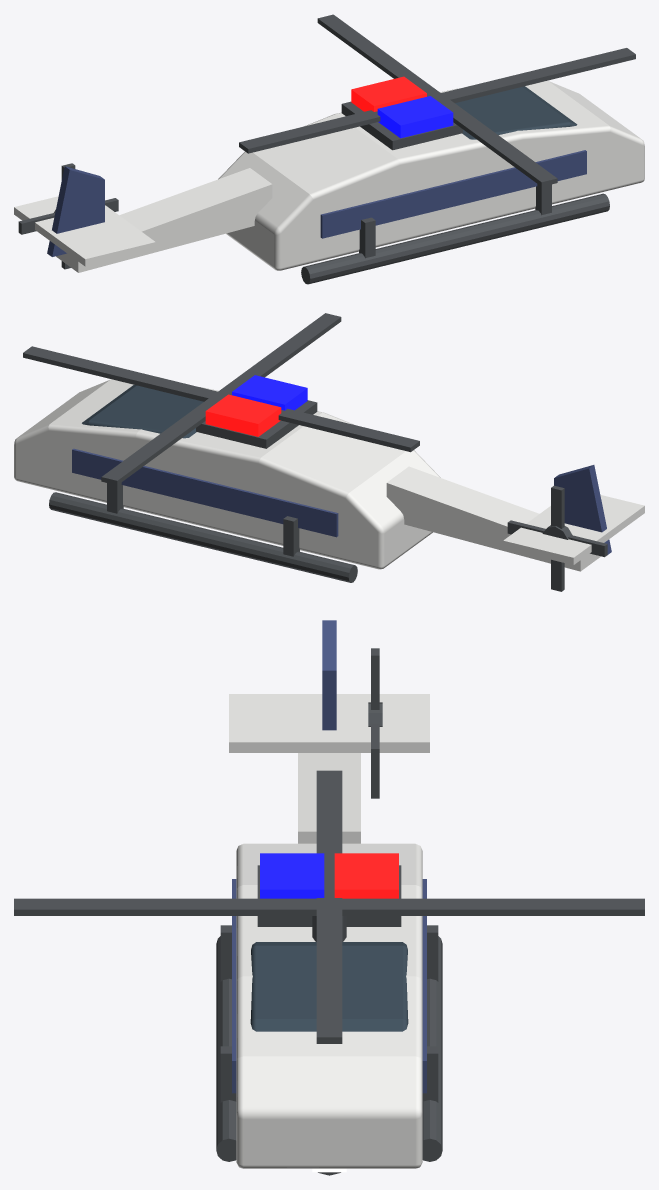
Rendered from heli2.glb.
The picture shows the model from 3 angles, top to bottom: view 1: azimuth 30°, elevation 25°; view 2: azimuth 150°, elevation 25°; view 3: azimuth 270°, elevation 25°; orthographic projection. The views are drawn at different scales.
Visible parts, largest first — view 1: Body, Rotor, TailBoom, Skids, Stripe, Stabilizer, Canopy, TailFin, LightBlue, LightRed, LightBarBase, TailRotor; view 2: Body, Rotor, TailBoom, Skids, Stripe, Stabilizer, Canopy, TailFin, LightRed, TailRotor, LightBlue, LightBarBase; view 3: Body, Rotor, Canopy, Stabilizer, Skids, TailBoom, LightBlue, LightRed, Stripe, TailFin, TailRotor, LightBarBase.
Boxes of the visible parts, x1,y1,x2,y2 form: Body: [218, 81, 644, 270]; Rotor: [239, 14, 635, 186]; TailBoom: [56, 168, 272, 272]; Skids: [301, 184, 609, 284]; Stripe: [320, 150, 586, 238]; Stabilizer: [14, 196, 155, 266]; Canopy: [455, 86, 577, 139]; TailFin: [47, 166, 104, 256]; LightBlue: [377, 96, 453, 138]; LightRed: [351, 76, 426, 111]; LightBarBase: [341, 101, 462, 150]; TailRotor: [18, 163, 118, 269]; Body: [14, 379, 440, 569]; Rotor: [23, 313, 419, 485]; TailBoom: [386, 466, 600, 571]; Skids: [49, 482, 357, 582]; Stripe: [72, 448, 338, 537]; Stabilizer: [503, 495, 644, 564]; Canopy: [82, 385, 203, 438]; TailFin: [554, 465, 611, 554]; LightRed: [205, 394, 281, 436]; TailRotor: [507, 485, 607, 591]; LightBlue: [232, 375, 307, 410]; LightBarBase: [196, 400, 317, 448]; Body: [236, 843, 422, 1168]; Rotor: [14, 770, 644, 1043]; Canopy: [250, 942, 408, 1031]; Stabilizer: [229, 694, 429, 752]; Skids: [216, 925, 442, 1161]; TailBoom: [298, 753, 360, 843]; LightBlue: [260, 853, 324, 898]; LightRed: [334, 853, 398, 898]; Stripe: [232, 879, 426, 1093]; TailFin: [322, 620, 336, 730]; TailRotor: [368, 648, 382, 798]; LightBarBase: [257, 865, 401, 926].
Size of the model in its own units: 67.5 by 15.4 by 44.
